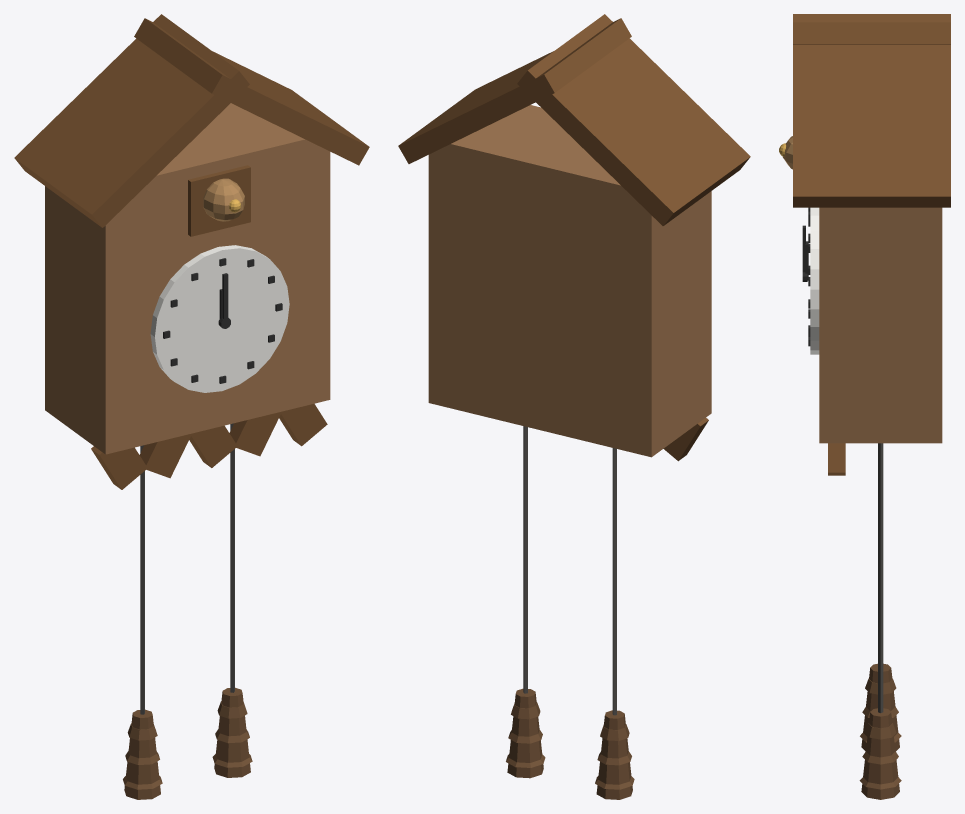
The model's file is cuckoo_clock.glb.
The picture shows the model from 3 angles, left to right: view 1: azimuth 30°, elevation 25°; view 2: azimuth 150°, elevation 25°; view 3: azimuth 270°, elevation 25°; orthographic projection. The views are drawn at different scales.
Parts seen in each view (by area): view 1: CuckooClock; view 2: CuckooClock; view 3: CuckooClock.
Boxes of the visible parts, <box> form: CuckooClock: <box>14,14,369,799</box>; CuckooClock: <box>398,14,750,799</box>; CuckooClock: <box>779,14,950,799</box>.
Bounding box in the file's own units: 0.3709 × 0.9441 × 0.1958.
